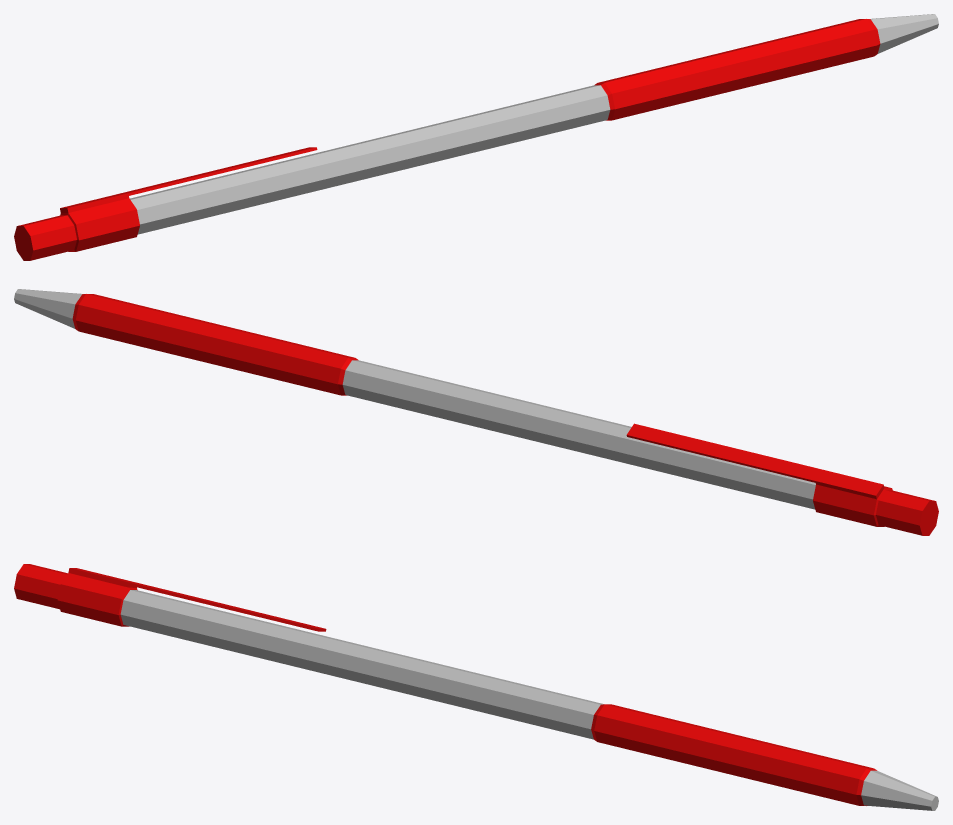
File: Kuglepen_Rød.fbx
3 views of the same model, one above another, from view 1: azimuth 30°, elevation 25°; view 2: azimuth 150°, elevation 25°; view 3: azimuth 330°, elevation 25° (orthographic).
Parts seen in each view (by area): view 1: Cylinder.008; view 2: Cylinder.008; view 3: Cylinder.008.
Part boxes in pixels (x1,y1,x2,y2): Cylinder.008: (14, 14, 938, 260); Cylinder.008: (14, 289, 938, 535); Cylinder.008: (14, 564, 938, 810).
Size of the model in its own units: 32.35 by 1.47 by 1.32.
